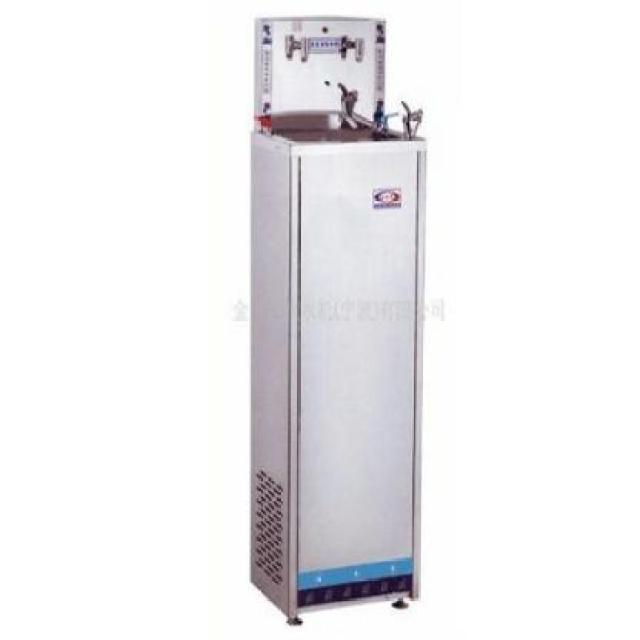cooler: (248, 8, 432, 628)
